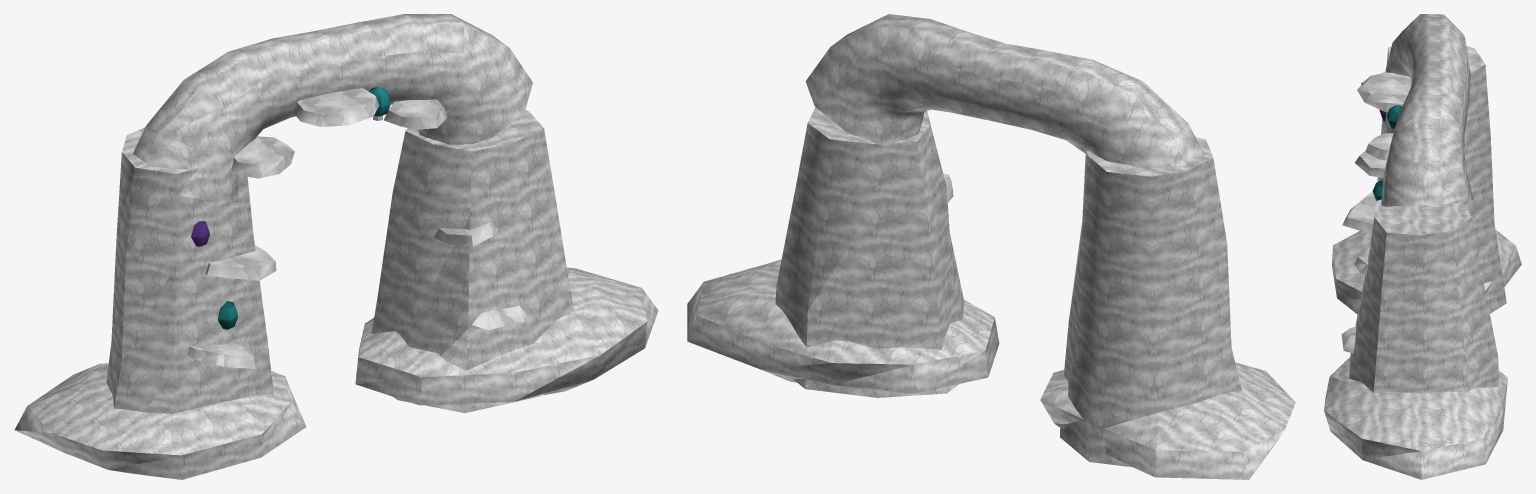
3 views of the same model, side by side, from view 1: azimuth 30°, elevation 25°; view 2: azimuth 150°, elevation 25°; view 3: azimuth 270°, elevation 25° (orthographic). The views are drawn at different scales.
Visible parts, largest first — view 1: DL011_TwilightReefArch_stone_blue, DL011_TwilightReefArch_stone_warm, DL011_TwilightReefArch_coral_violet, DL011_TwilightReefArch_coral_orange, DL011_TwilightReefArch_coral_turq, DL011_TwilightReefArch_coral_pink, DL011_TwilightReefArch_emissive_teal; view 2: DL011_TwilightReefArch_stone_blue, DL011_TwilightReefArch_stone_warm; view 3: DL011_TwilightReefArch_stone_warm, DL011_TwilightReefArch_stone_blue, DL011_TwilightReefArch_coral_turq, DL011_TwilightReefArch_coral_pink, DL011_TwilightReefArch_coral_violet, DL011_TwilightReefArch_emissive_teal, DL011_TwilightReefArch_coral_orange.
Part boxes in pixels (x1,y1,x2,y2): DL011_TwilightReefArch_stone_blue: (14,14,532,479); DL011_TwilightReefArch_stone_warm: (355,110,658,412); DL011_TwilightReefArch_coral_violet: (205,99,447,280); DL011_TwilightReefArch_coral_orange: (231,136,526,329); DL011_TwilightReefArch_coral_turq: (293,88,379,126); DL011_TwilightReefArch_coral_pink: (188,222,498,368); DL011_TwilightReefArch_emissive_teal: (218,87,390,329); DL011_TwilightReefArch_stone_blue: (805,14,1295,479); DL011_TwilightReefArch_stone_warm: (687,107,999,397); DL011_TwilightReefArch_stone_warm: (1324,199,1507,479); DL011_TwilightReefArch_stone_blue: (1332,14,1521,314); DL011_TwilightReefArch_coral_turq: (1357,72,1411,111); DL011_TwilightReefArch_coral_pink: (1342,192,1376,274); DL011_TwilightReefArch_coral_violet: (1355,132,1393,177); DL011_TwilightReefArch_emissive_teal: (1372,105,1402,200); DL011_TwilightReefArch_coral_orange: (1341,72,1395,353).
Bounding box in the file's own units: 14.71 × 8.8 × 5.
9 materials, 7 textured.
